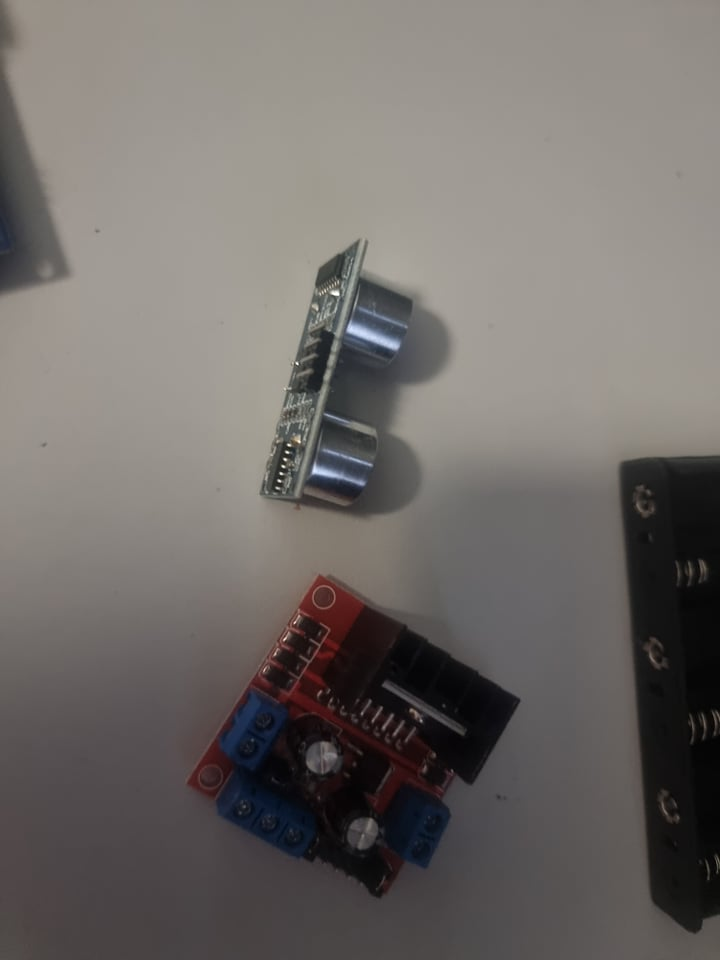BATTERY BOX: (603, 454, 720, 934)
MOTOR: (188, 574, 527, 899)
SENSOR: (249, 236, 418, 516)
